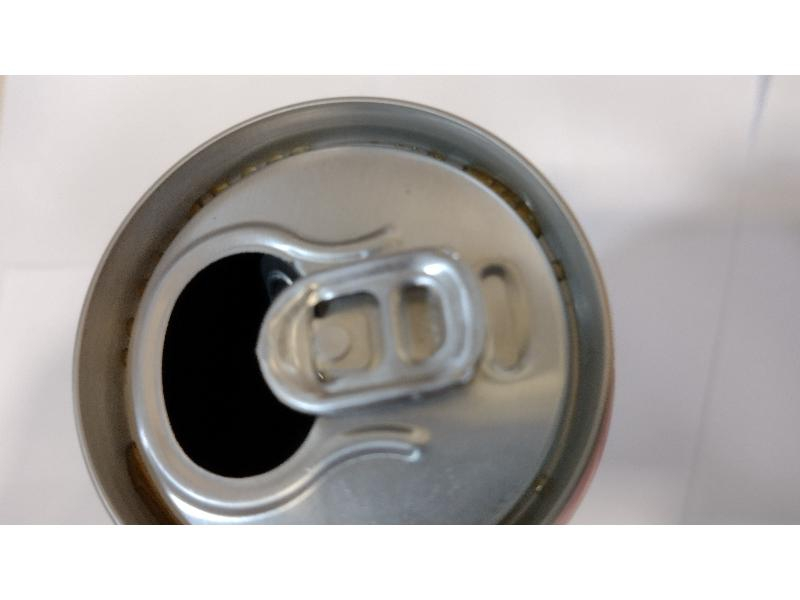can: (73, 92, 609, 525)
